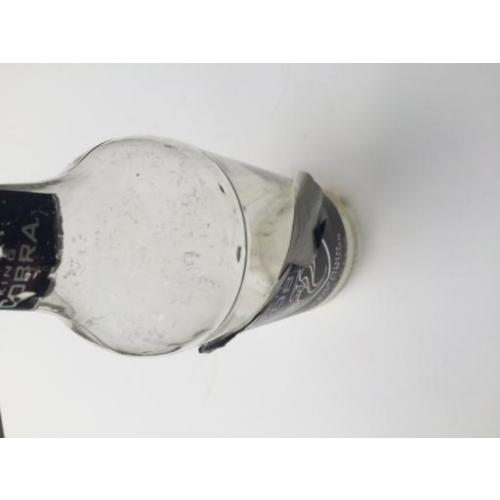glass: (1, 138, 357, 347)
